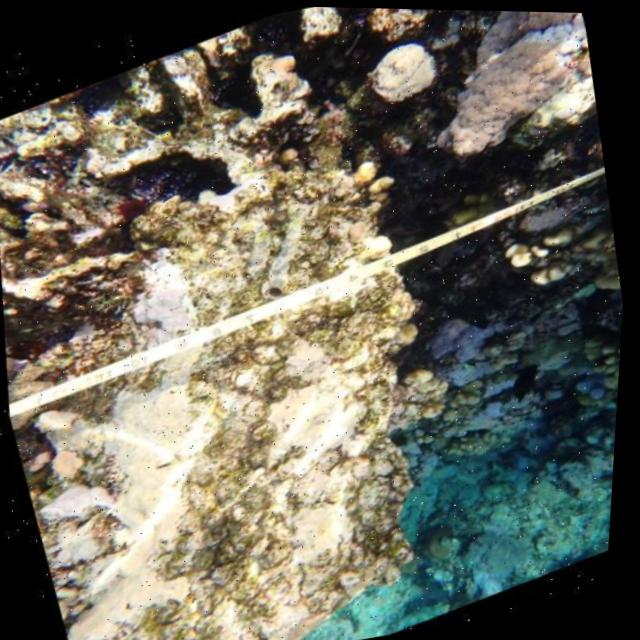Bleached Coral: (20, 338, 427, 640), (58, 229, 268, 506), (384, 7, 614, 201), (213, 305, 415, 493), (339, 17, 460, 135)
